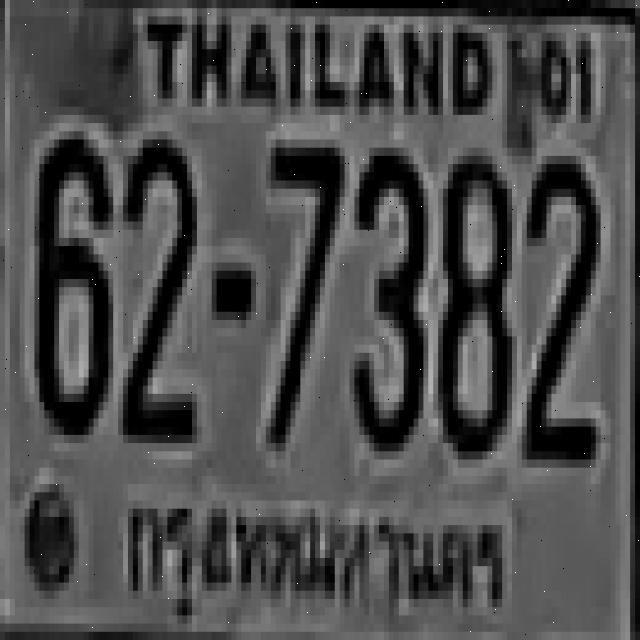2: (118, 135, 192, 439), (522, 152, 596, 456)
3: (349, 140, 424, 443)
6: (32, 131, 106, 427)
7: (266, 140, 340, 443), (266, 140, 340, 370)
8: (433, 148, 507, 452)
Bangkok: (113, 476, 511, 636)
